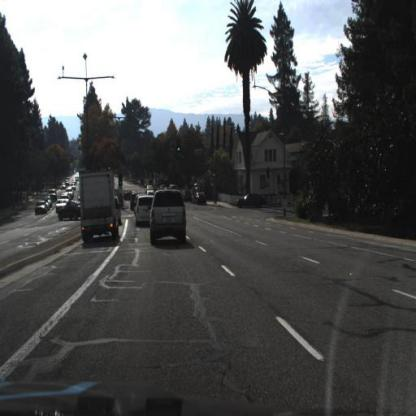car: (150, 189, 189, 249), (135, 195, 155, 231), (235, 192, 269, 212), (56, 202, 83, 224), (195, 192, 208, 207), (56, 199, 69, 212), (130, 191, 138, 211), (169, 179, 179, 190), (146, 191, 157, 200), (147, 183, 155, 191)
trafficLight-Green: (177, 137, 183, 156), (177, 139, 183, 157), (213, 166, 219, 181)
trafficLight-RedLeft: (119, 173, 124, 188)
truck: (79, 168, 119, 243)
